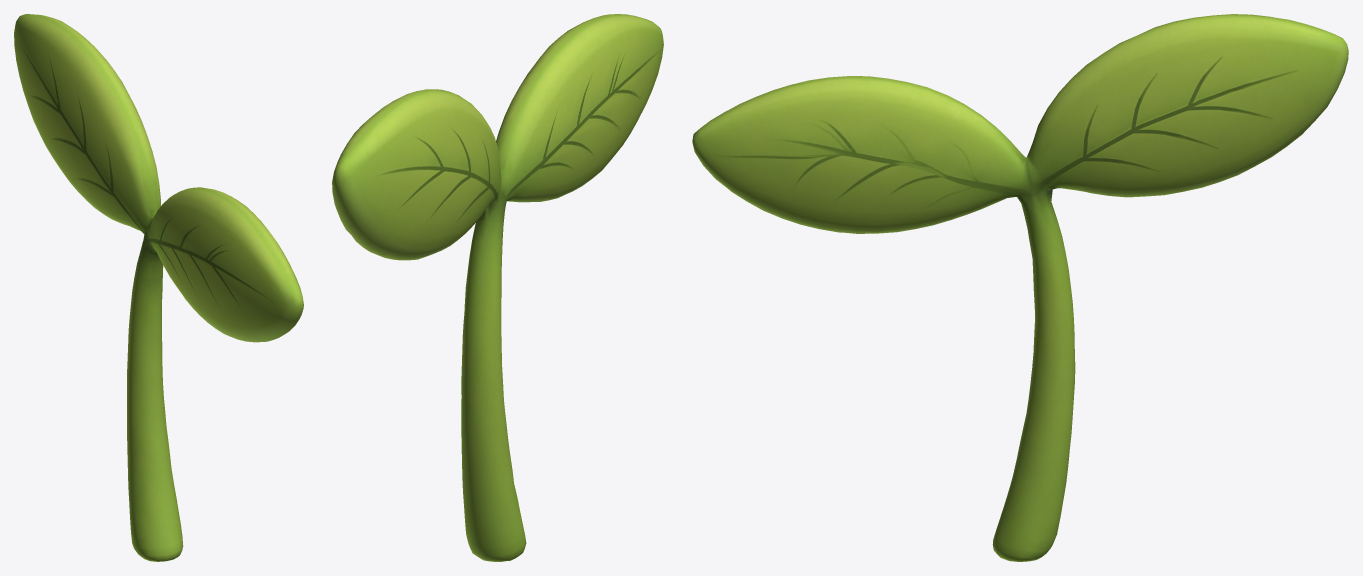
Rendered from 02-fresh-green-sprout-in-sunlight-81401971947398.glb.
The picture shows the model from 3 angles, left to right: view 1: azimuth 30°, elevation 25°; view 2: azimuth 150°, elevation 25°; view 3: azimuth 270°, elevation 25°; orthographic projection. The views are drawn at different scales.
Parts seen in each view (by area): view 1: 02-fresh-green-sprout-in-sunlight-81401971947398; view 2: 02-fresh-green-sprout-in-sunlight-81401971947398; view 3: 02-fresh-green-sprout-in-sunlight-81401971947398.
Boxes of the visible parts, left/top/right/bottom form: 02-fresh-green-sprout-in-sunlight-81401971947398: left=14, top=14, right=303, bottom=561; 02-fresh-green-sprout-in-sunlight-81401971947398: left=332, top=14, right=663, bottom=561; 02-fresh-green-sprout-in-sunlight-81401971947398: left=692, top=14, right=1348, bottom=561.
Bounding box in the file's own units: 0.1083 × 0.8995 × 0.9937.
1 material, 1 textured.
